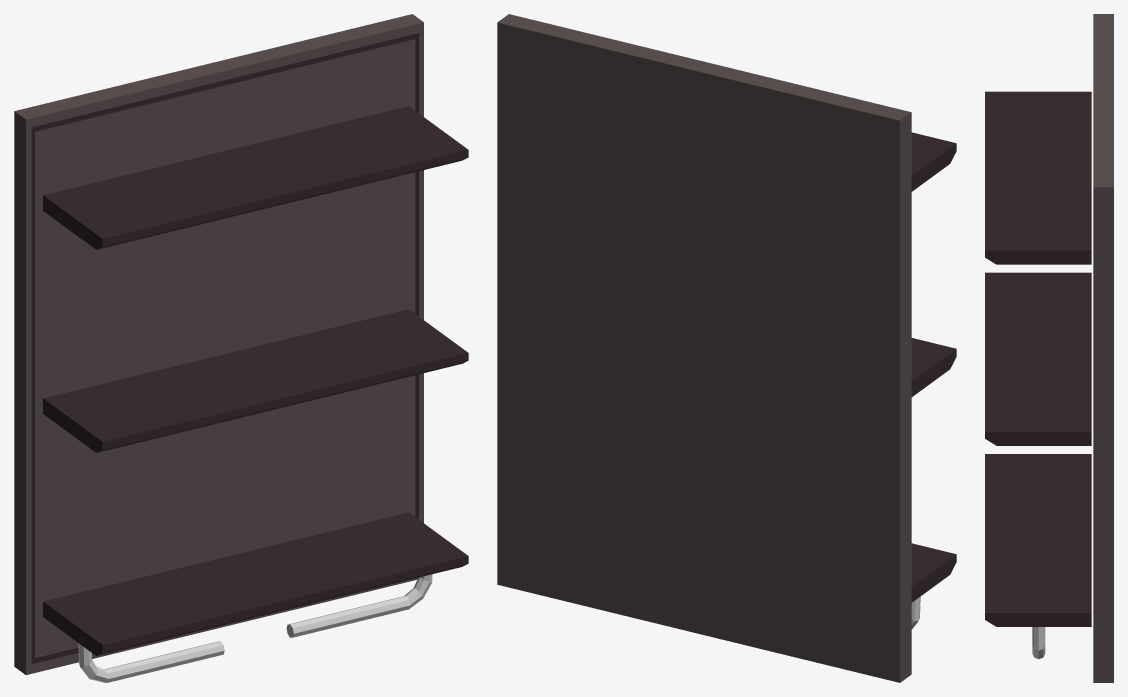
File: Prop_KitchenShelf_01.fbx
3 views of the same model, side by side, from view 1: azimuth 30°, elevation 25°; view 2: azimuth 150°, elevation 25°; view 3: azimuth 270°, elevation 25° (orthographic). The views are drawn at different scales.
Parts seen in each view (by area): view 1: Prop_KitchenShelf_01; view 2: Prop_KitchenShelf_01; view 3: Prop_KitchenShelf_01.
Part boxes in pixels (x1,y1,x2,y2): Prop_KitchenShelf_01: [14, 14, 468, 682]; Prop_KitchenShelf_01: [497, 14, 956, 682]; Prop_KitchenShelf_01: [985, 14, 1113, 682].
Bounding box in the file's own units: 80 × 107 × 25.11.
